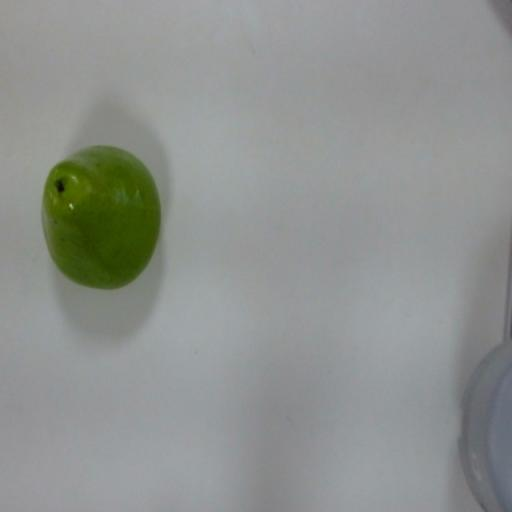Unripe: (42, 130, 168, 300)
